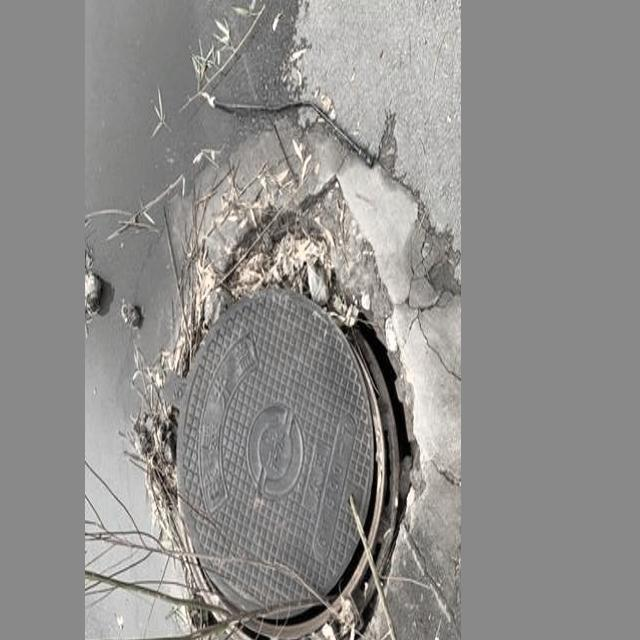circle: (123, 114, 455, 640)
